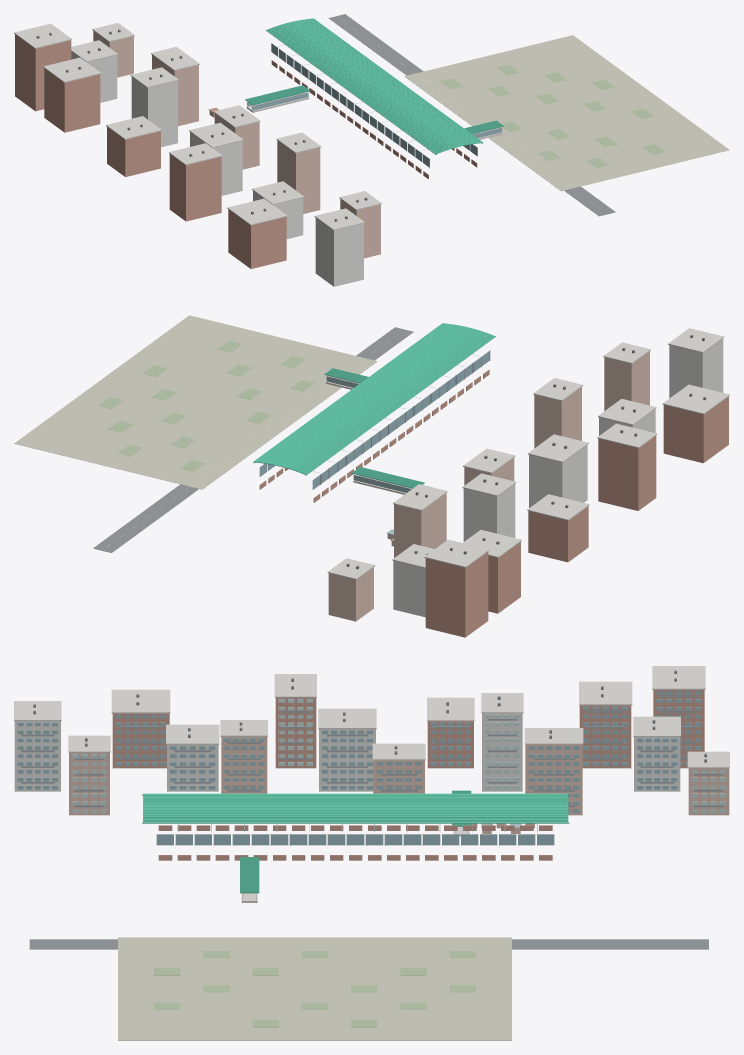
3 renders of one model, top to bottom at view 1: azimuth 30°, elevation 25°; view 2: azimuth 150°, elevation 25°; view 3: azimuth 270°, elevation 25°, orthographic. The views are drawn at different scales.
Parts seen in each view (by area): view 1: Station 3 photo-informed architecture and surroundings; view 2: Station 3 photo-informed architecture and surroundings; view 3: Station 3 photo-informed architecture and surroundings.
Boxes of the visible parts, x1,y1,x2,y2 form: Station 3 photo-informed architecture and surroundings: [14, 14, 729, 286]; Station 3 photo-informed architecture and surroundings: [14, 315, 729, 637]; Station 3 photo-informed architecture and surroundings: [14, 666, 729, 1040].
Bounding box in the file's own units: 257 × 33.5 × 264.
